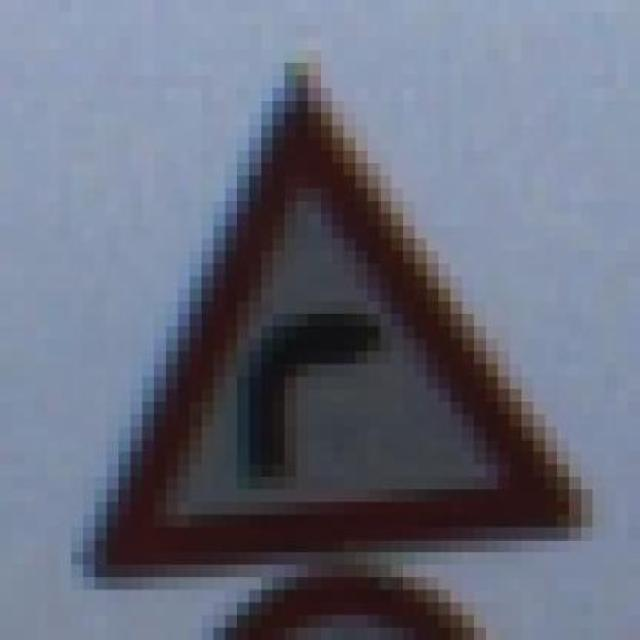Dangerous Rright Curve Ahead: (59, 75, 593, 578)
